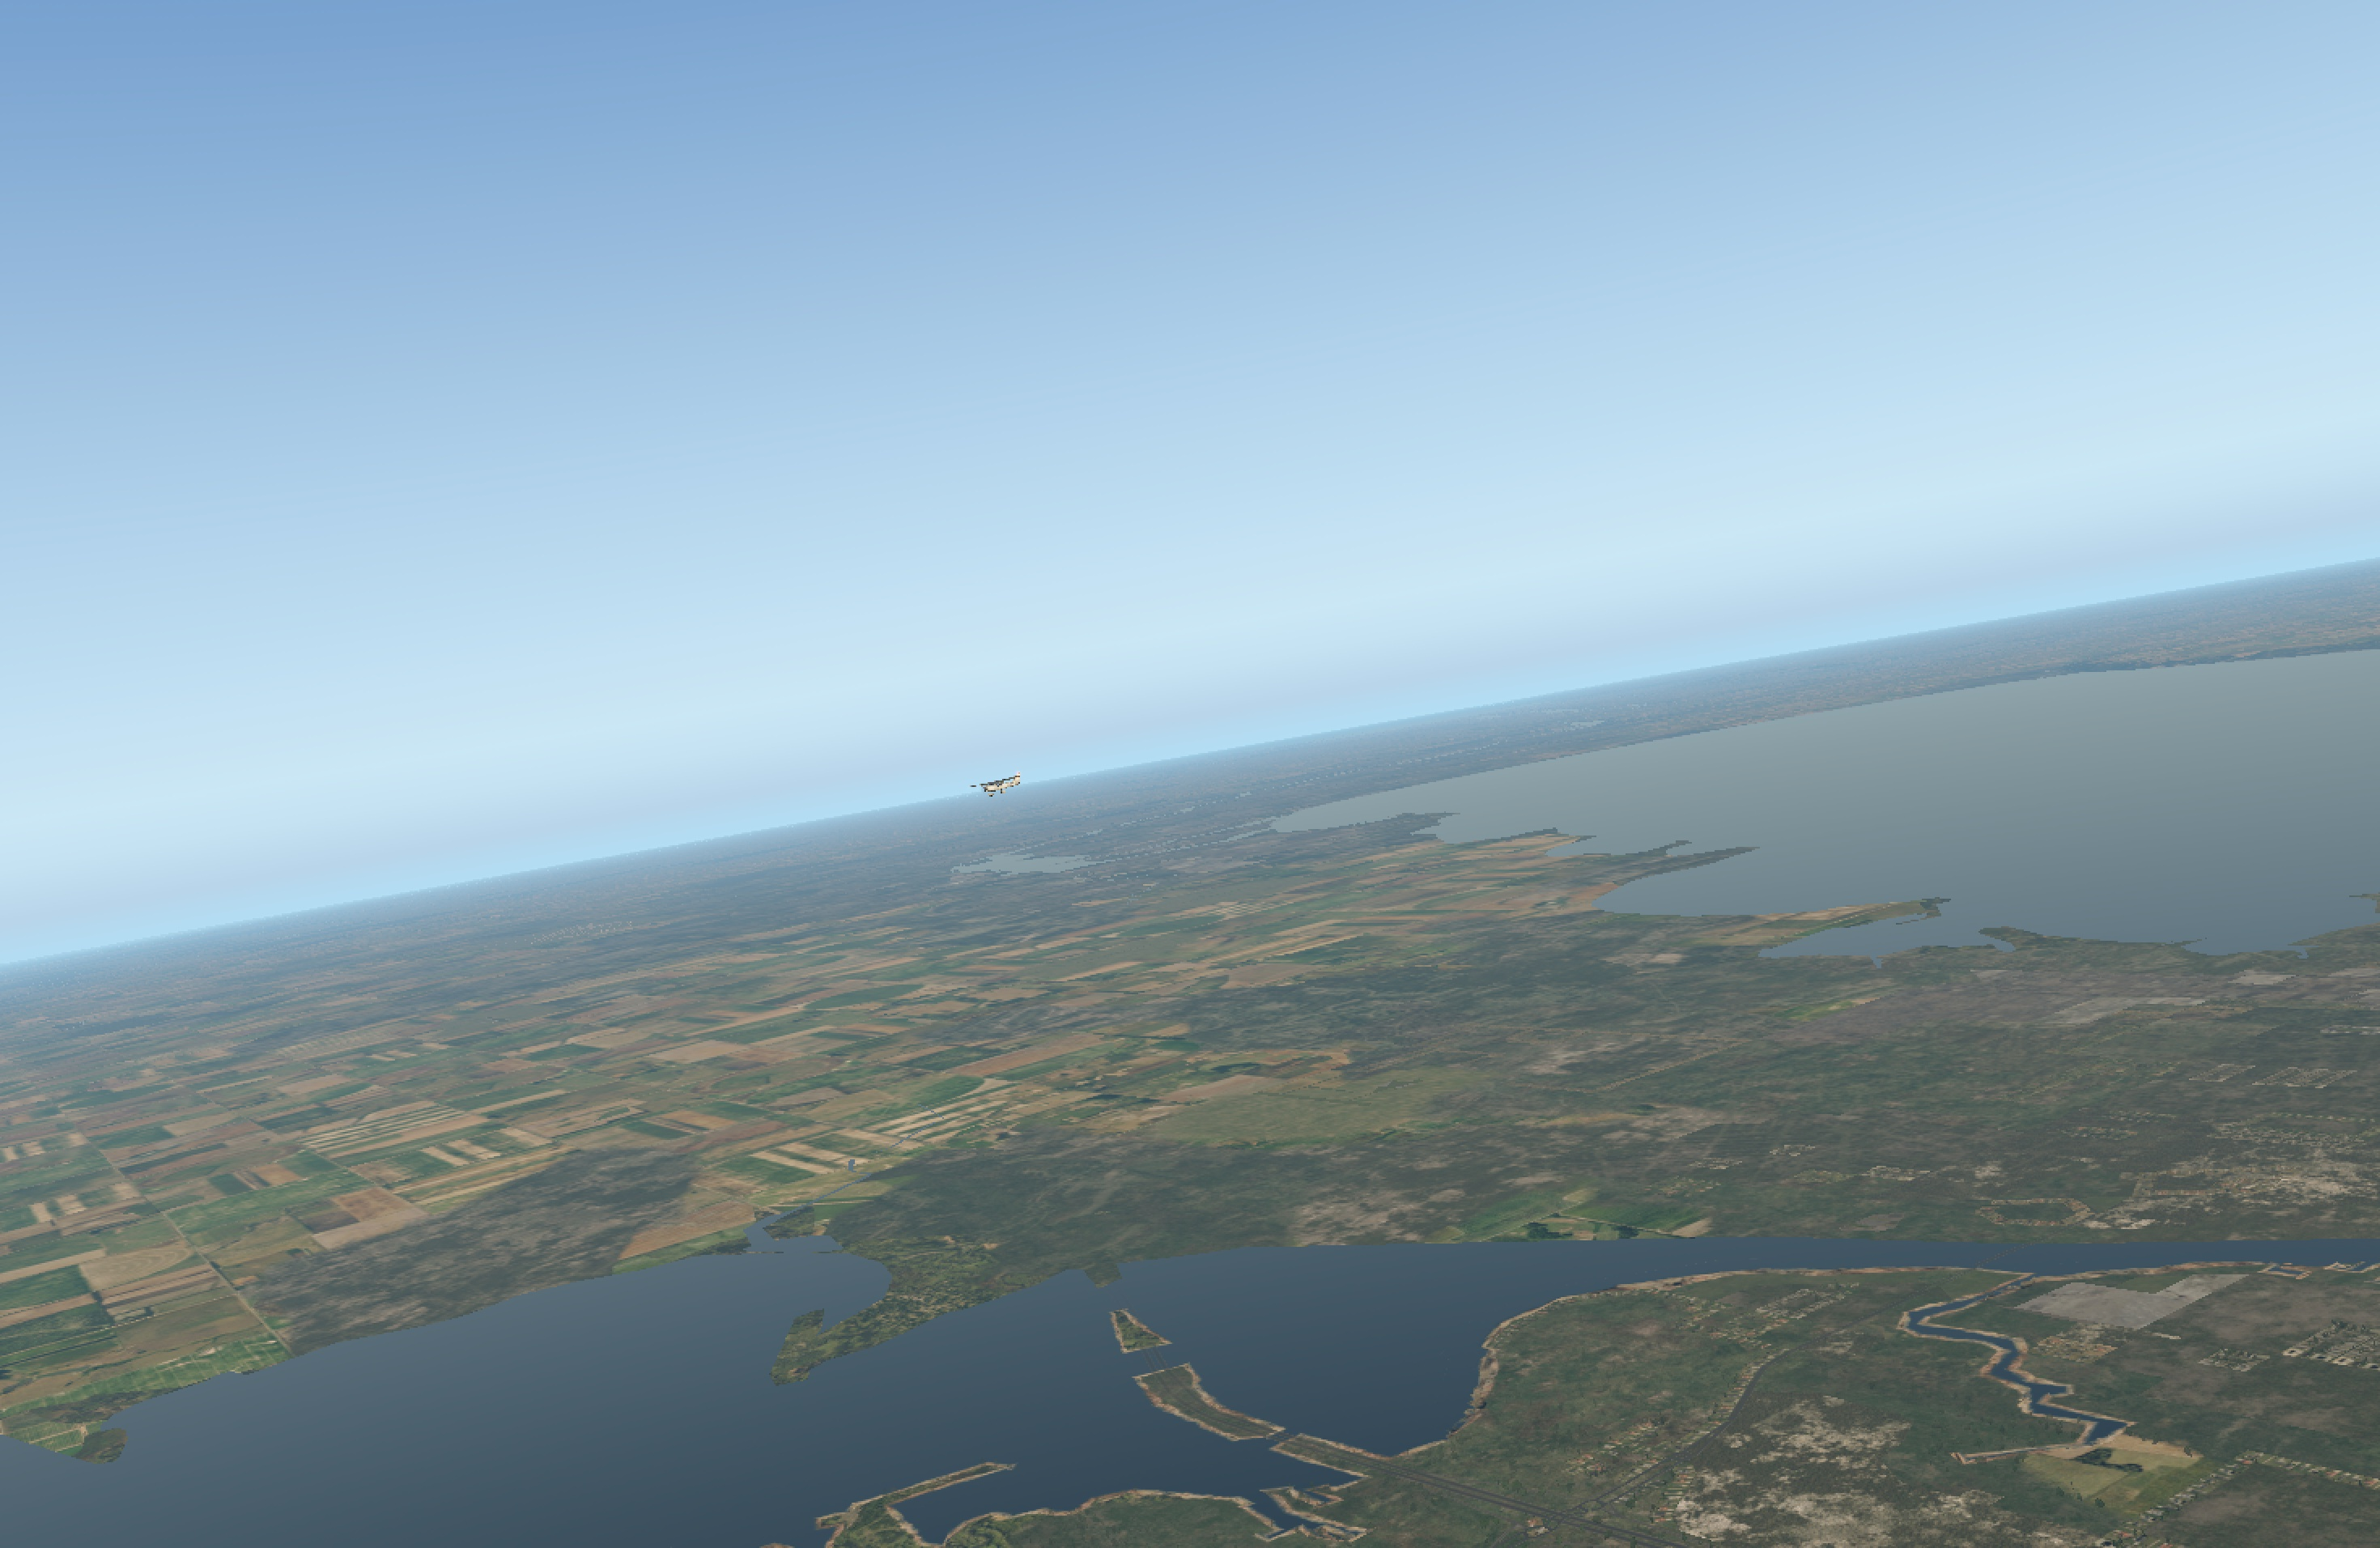aircraft: (968, 776, 1022, 797)
